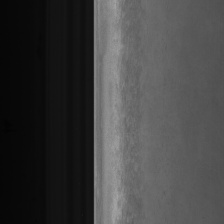silk_spot: (114, 23, 150, 206)
